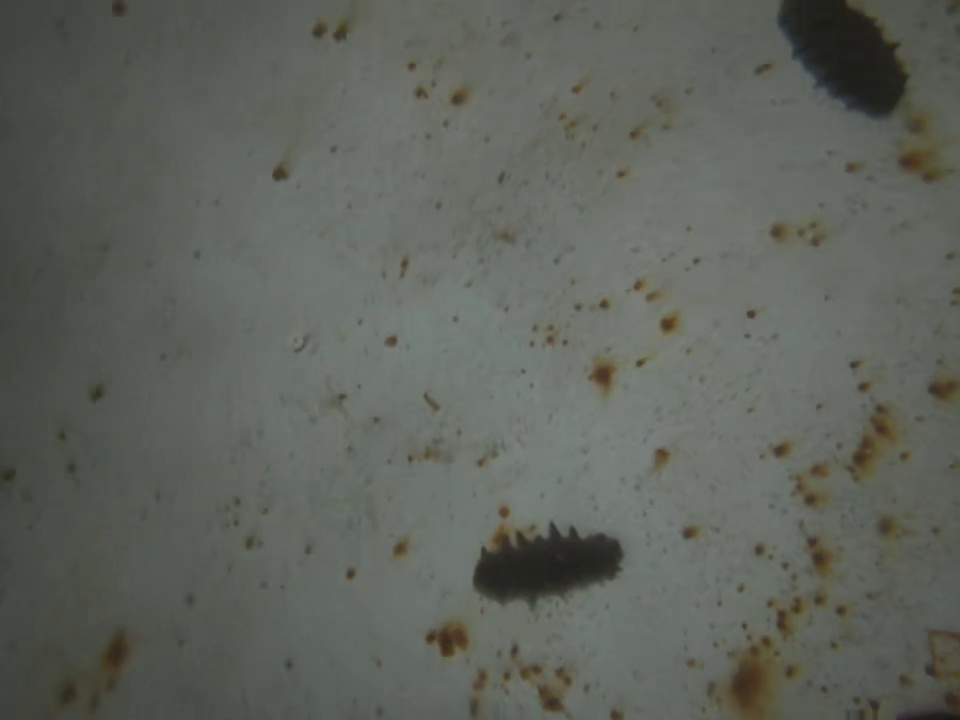seacucumber: (775, 1, 911, 123), (471, 515, 626, 616)
